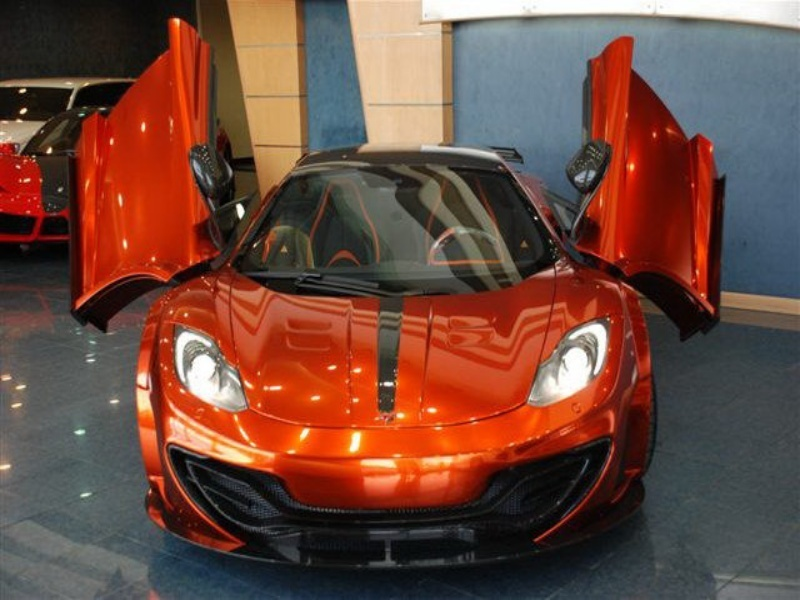normalcar: (77, 56, 760, 562)
